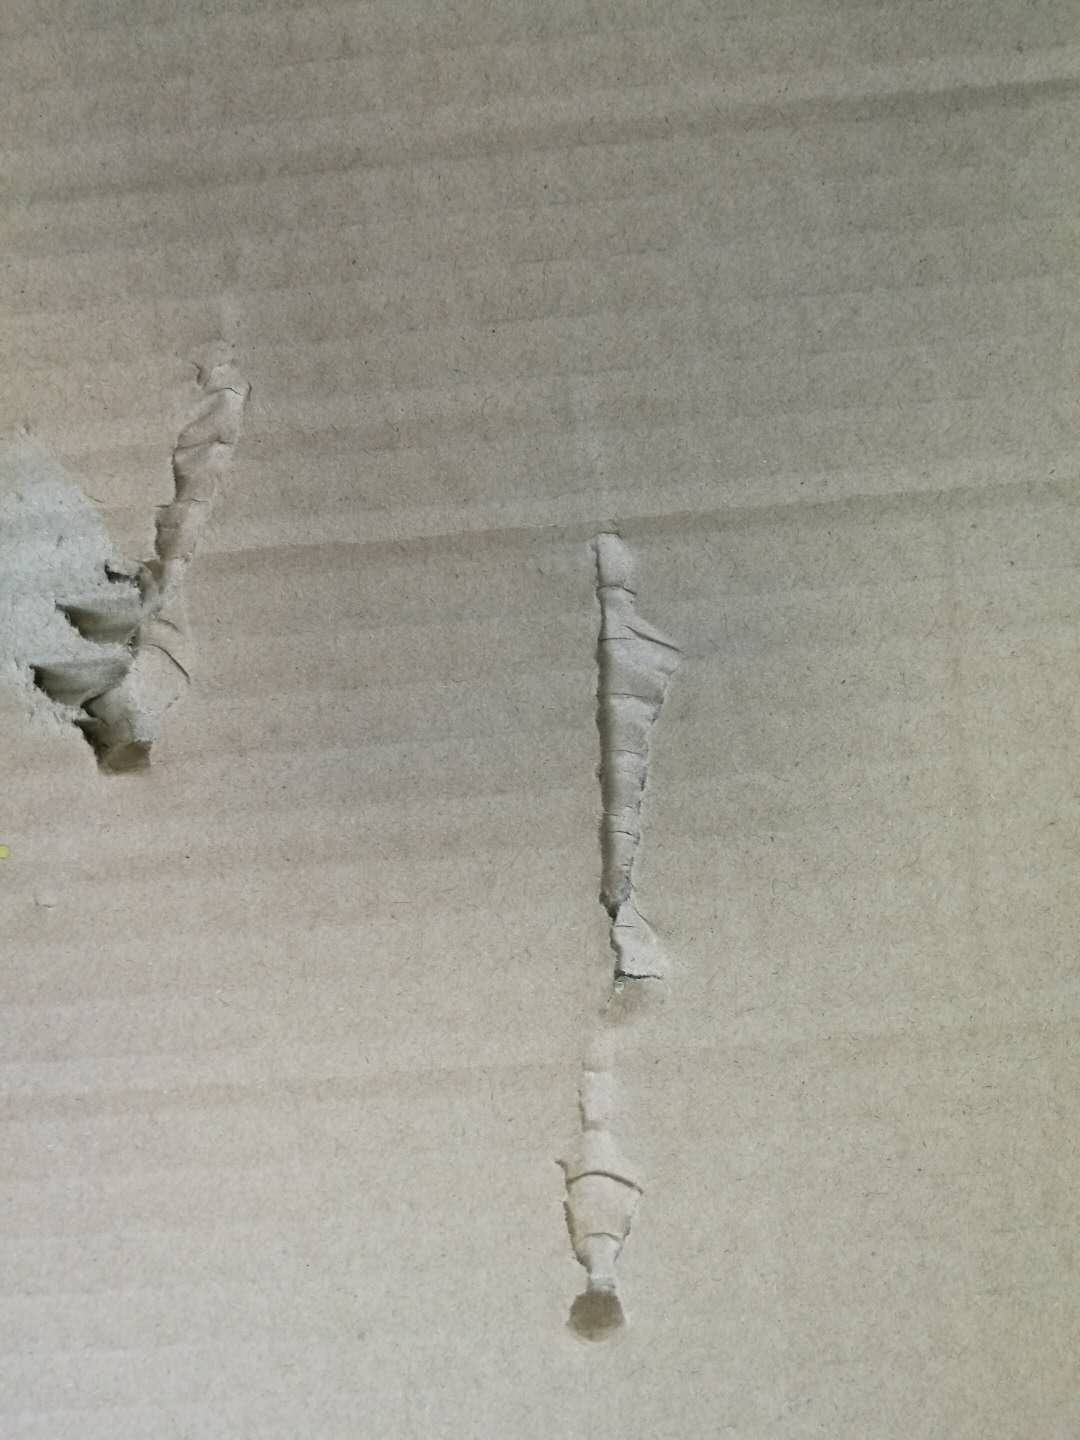defect: (514, 478, 734, 1381), (1, 45, 1080, 215), (2, 262, 303, 830), (212, 432, 1080, 601)
